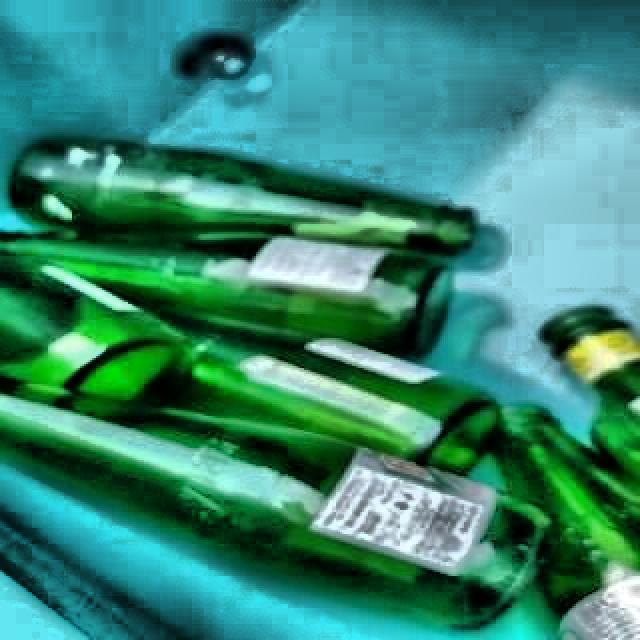glass: (0, 137, 640, 640)
